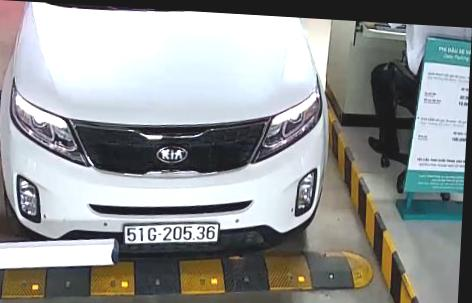License_Plate: (122, 218, 224, 249)
